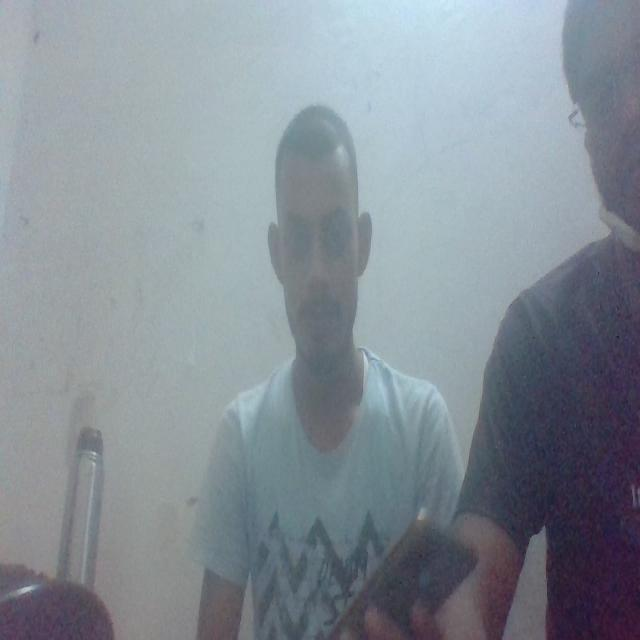Phone: (319, 512, 487, 639)
